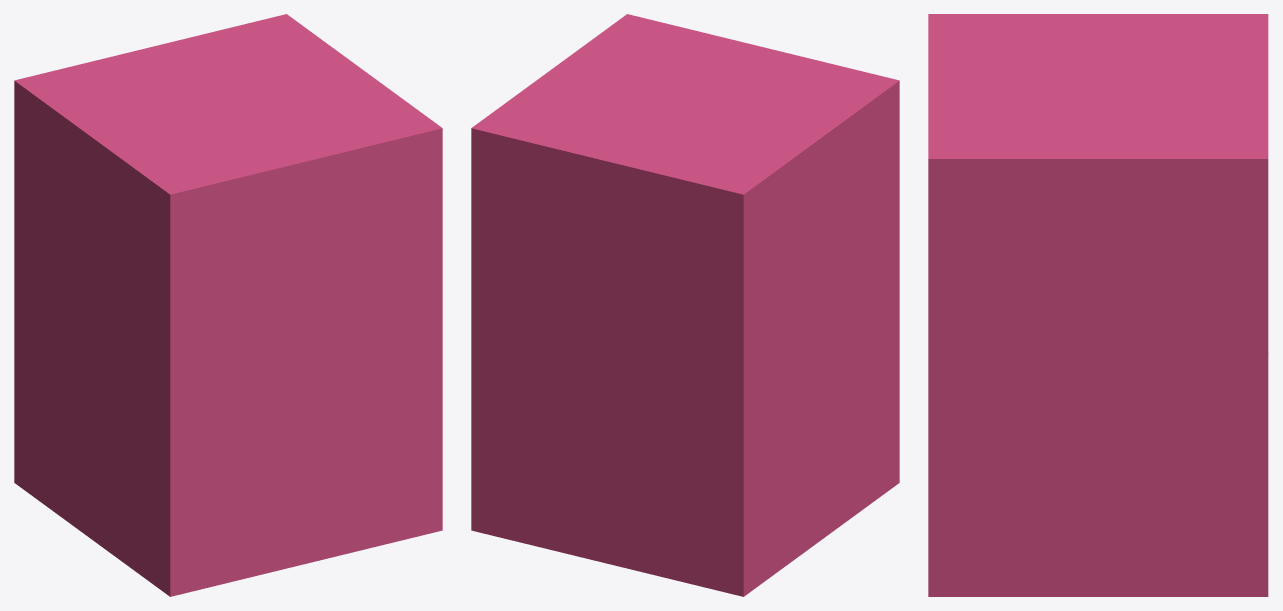
File: defaulttree.DAE
3 views of the same model, side by side, from view 1: azimuth 30°, elevation 25°; view 2: azimuth 150°, elevation 25°; view 3: azimuth 270°, elevation 25° (orthographic). The views are drawn at different scales.
Parts seen in each view (by area): view 1: bounds; view 2: bounds; view 3: bounds.
Part boxes in pixels (x1,y1,x2,y2): bounds: [14, 14, 442, 596]; bounds: [471, 14, 899, 596]; bounds: [928, 14, 1268, 596].
Bounding box in the file's own units: 4.5 × 4.48 × 6.49.
